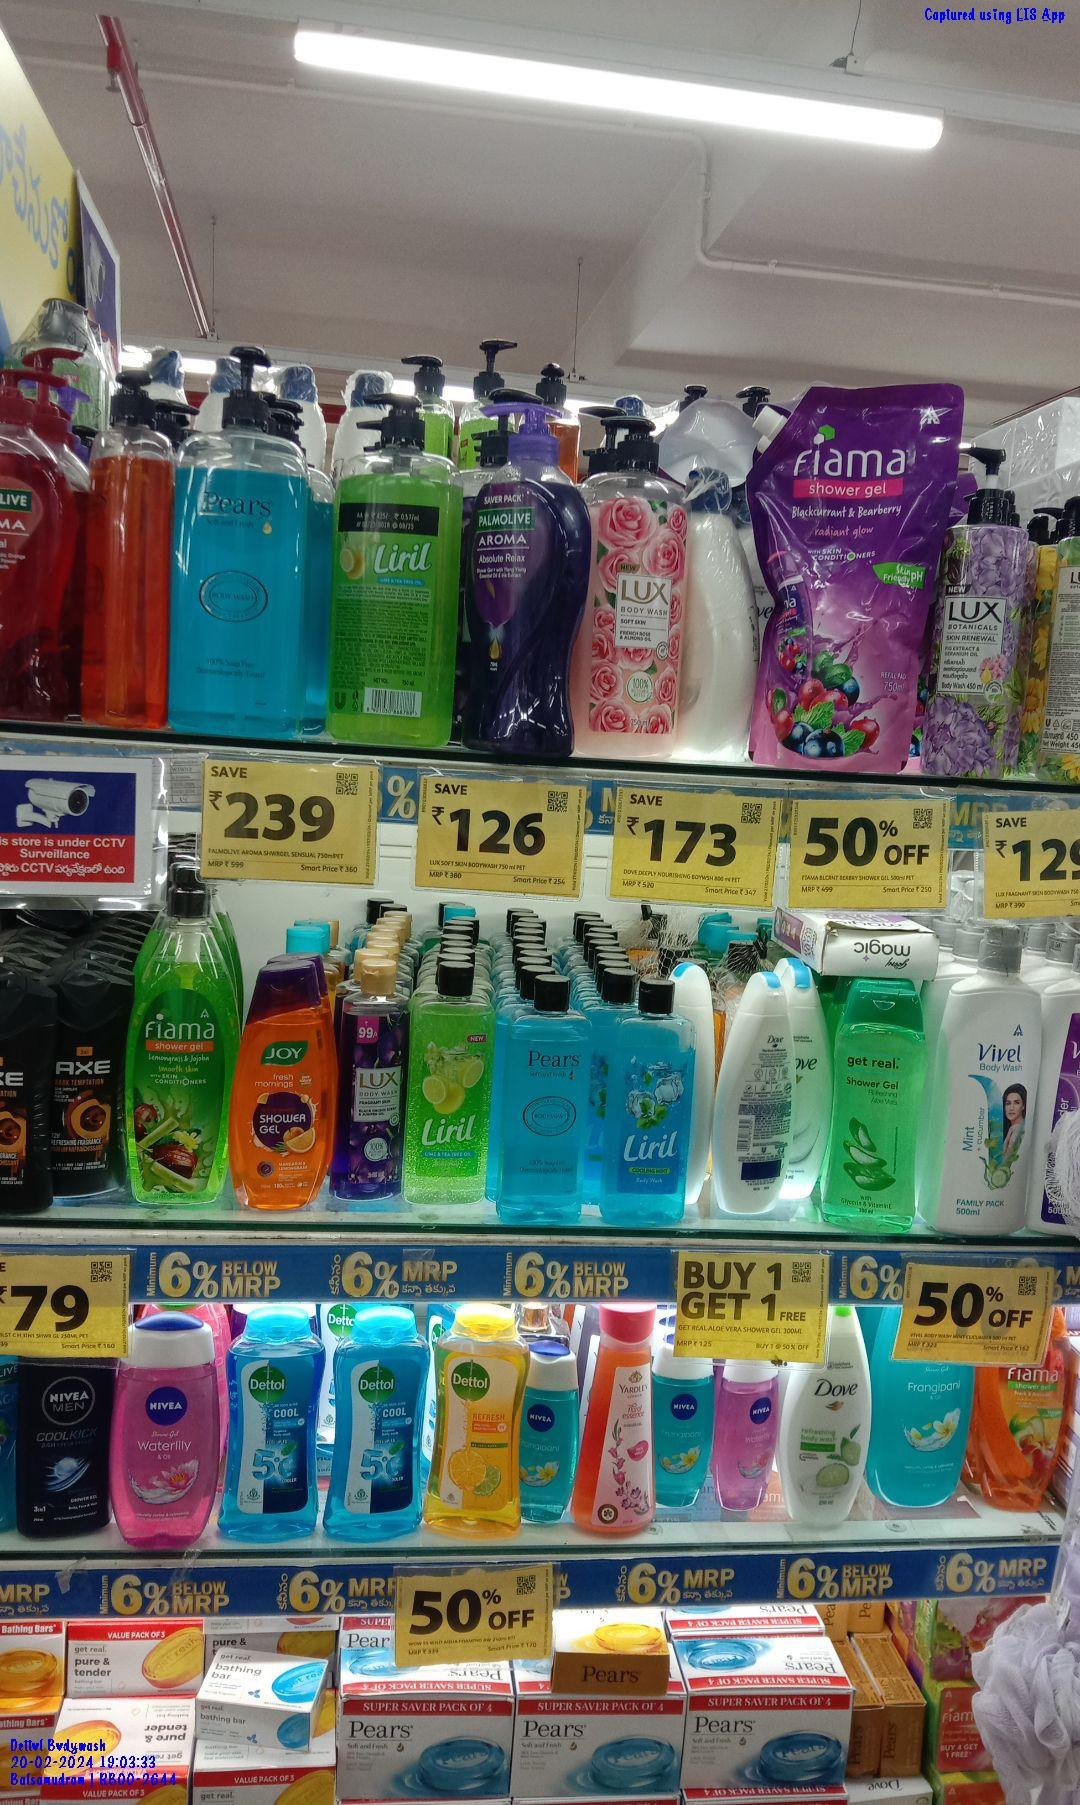Dettol_Bodywash_Cool: (329, 1306, 423, 1539), (229, 1302, 321, 1536), (603, 969, 687, 1219)
Dettol_Bodywash_Refresh: (428, 1293, 521, 1536)
Dove_Refreshing_Body_Wash_250ML: (779, 1363, 869, 1526)
Joy_Shower_Gel_Mandarin_and_Lemongrass_250ML: (230, 954, 332, 1211)
Liril_Lime_and_Tea_Tree_Oil_Body_Wash_250ML: (409, 954, 487, 1202)
Lux_Black_Orchid_Scent_and_Juniper_Oil_Body_Wash_245ML: (337, 964, 404, 1198)
Nivea_Shower_Gel_Frangipani_and_Oil_250ML: (879, 1360, 967, 1507)
Nivea_Shower_Gel_Waterlily_and_Oil_250ML: (116, 1313, 220, 1548)
Pears_Pure_Glycerin_and_Mint_Extracts_Body_Wash_250ML: (495, 973, 588, 1198)
